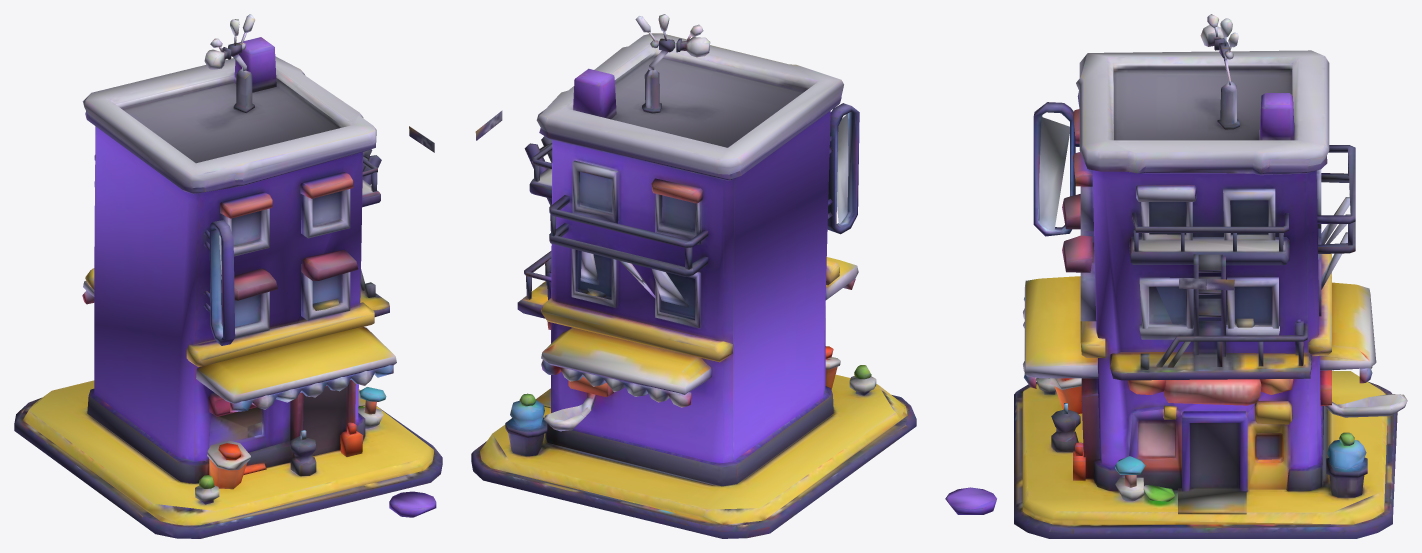
Rendered from bld-purple.glb.
3 views of the same model, side by side, from view 1: azimuth 30°, elevation 25°; view 2: azimuth 150°, elevation 25°; view 3: azimuth 270°, elevation 25° (orthographic). The views are drawn at different scales.
Visible parts, largest first — view 1: tripo_node_5e235243-1d34-4755-a774-816840a370ed; view 2: tripo_node_5e235243-1d34-4755-a774-816840a370ed; view 3: tripo_node_5e235243-1d34-4755-a774-816840a370ed.
Boxes of the visible parts, x1=… form: tripo_node_5e235243-1d34-4755-a774-816840a370ed: x1=14, y1=14, x2=442, y2=538; tripo_node_5e235243-1d34-4755-a774-816840a370ed: x1=471, y1=14, x2=916, y2=538; tripo_node_5e235243-1d34-4755-a774-816840a370ed: x1=945, y1=14, x2=1407, y2=538.
Bounding box in the file's own units: 0.8574 × 0.998 × 0.92.
Materials: 1 (1 with a texture image).
